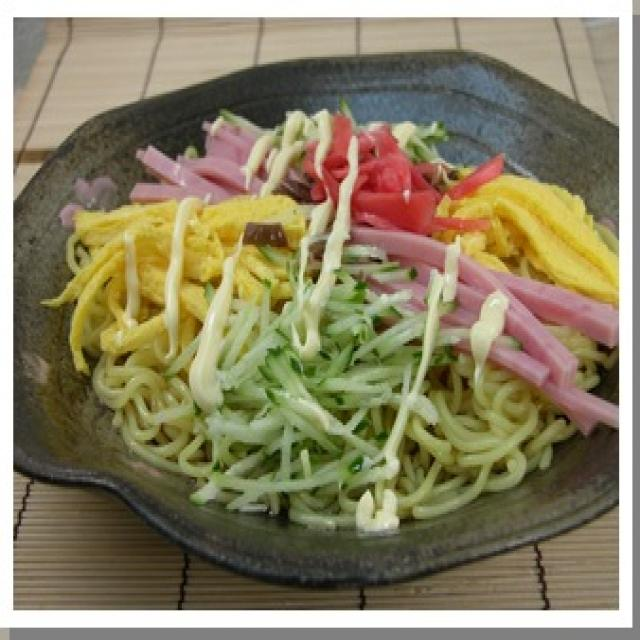面条主食: (19, 40, 606, 593)
